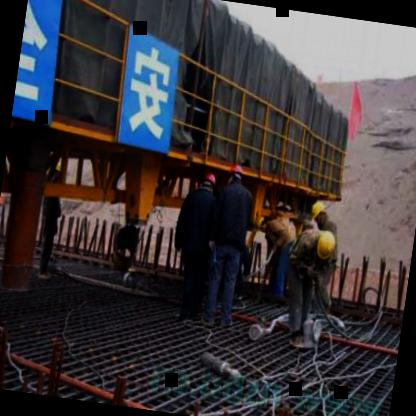helmet: (308, 225, 339, 264), (304, 195, 332, 230), (190, 166, 220, 198), (224, 160, 247, 190), (252, 210, 270, 234)
